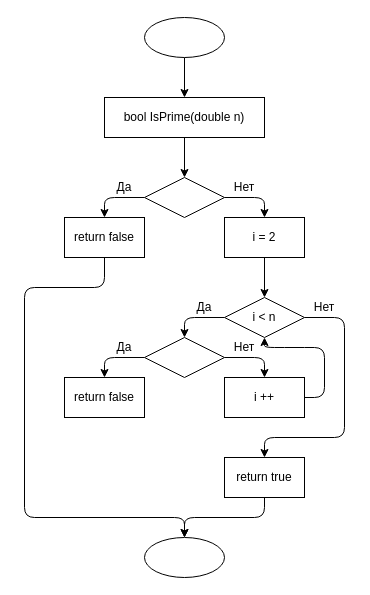
This 370x595 diagram has some shape labels left out. The centre of each missing label's shape, as x and y in pixels:
"n % i == 0" goes at point 184,357.
"n <= 1 ?" goes at point 184,197.
"Конец" goes at point 184,557.
"Начало" goes at point 184,37.
